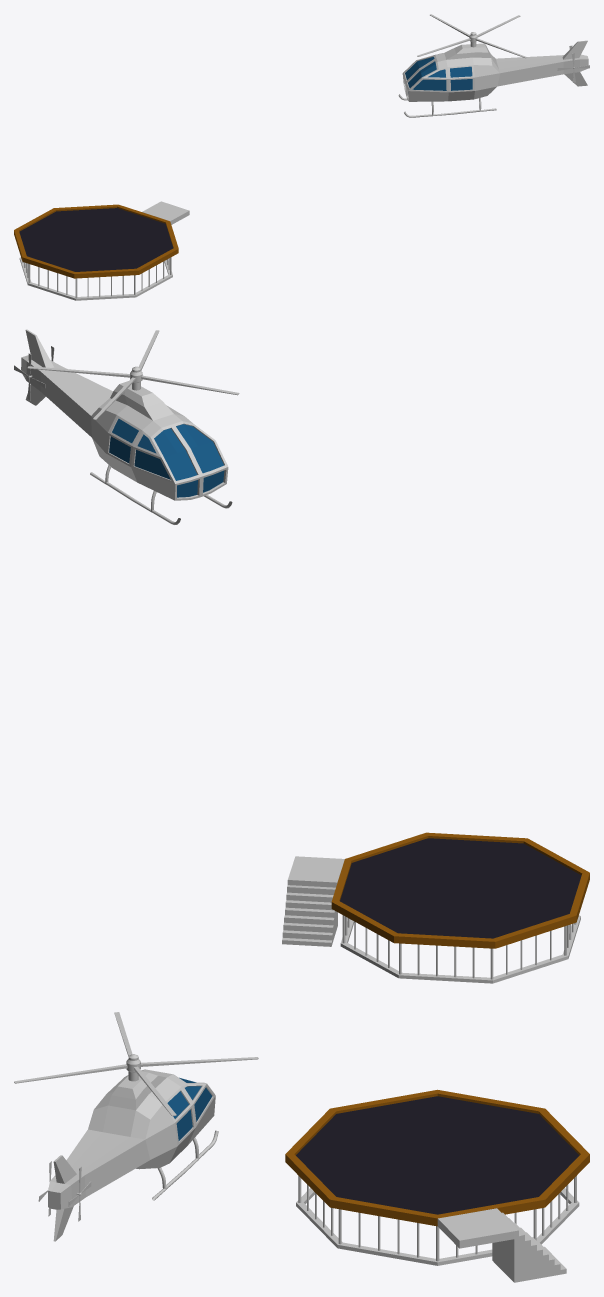
Rendered from copter_000154.obj.
The picture shows the model from 3 angles, top to bottom: view 1: azimuth 30°, elevation 25°; view 2: azimuth 150°, elevation 25°; view 3: azimuth 270°, elevation 25°; orthographic projection. The views are drawn at different scales.
Visible parts, largest first — view 1: Cylinder.001_Cylinder.012, Helicopter.007_Cylinder.008, Helicopter.001_Cylinder.001; view 2: Cylinder.001_Cylinder.012, Helicopter.007_Cylinder.008, Helicopter.001_Cylinder.001; view 3: Cylinder.001_Cylinder.012, Helicopter.007_Cylinder.008, Helicopter.001_Cylinder.001, Cylinder.002, Cylinder.004, Cylinder.003_Cylinder.005.
Part boxes in pixels (bbox=[...]): Cylinder.001_Cylinder.012: bbox=[14, 201, 189, 300]; Helicopter.007_Cylinder.008: bbox=[398, 40, 588, 117]; Helicopter.001_Cylinder.001: bbox=[417, 14, 526, 58]; Cylinder.001_Cylinder.012: bbox=[282, 832, 589, 983]; Helicopter.007_Cylinder.008: bbox=[21, 329, 232, 524]; Helicopter.001_Cylinder.001: bbox=[27, 330, 239, 419]; Cylinder.001_Cylinder.012: bbox=[285, 1089, 589, 1282]; Helicopter.007_Cylinder.008: bbox=[48, 1069, 218, 1241]; Helicopter.001_Cylinder.001: bbox=[14, 1012, 258, 1116]; Cylinder.002: bbox=[298, 1176, 576, 1261]; Cylinder.004: bbox=[307, 1184, 568, 1235]; Cylinder.003_Cylinder.005: bbox=[358, 1212, 516, 1257].
Size of the model in its own units: 21.17 by 9.95 by 12.8.
